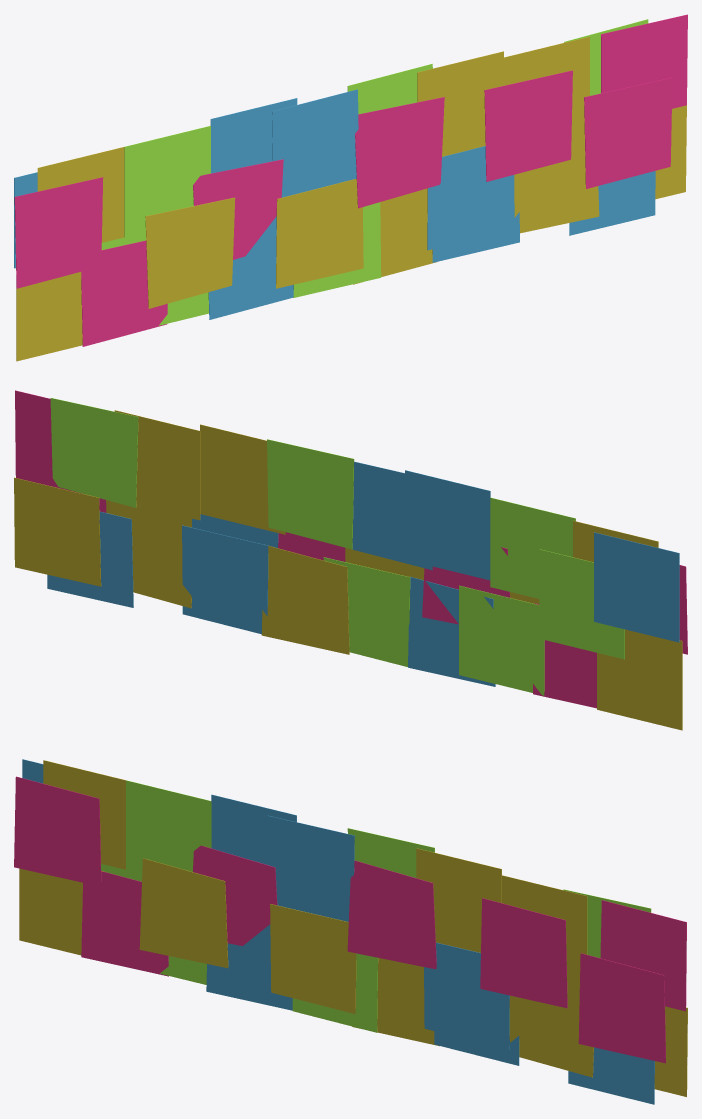
Rendered from notesCover.fbx.
The picture shows the model from 3 angles, top to bottom: view 1: azimuth 30°, elevation 25°; view 2: azimuth 150°, elevation 25°; view 3: azimuth 330°, elevation 25°; orthographic projection.
Visible parts, largest first — view 1: Notes.003, Notes.007, Notes.028, Notes.024, Notes.014, Notes.019, Notes.018, Notes.010, Notes.023, Notes.026, Notes.004, Notes.012 (+16 smaller); view 2: Notes.015, Notes.008, Notes.005, Notes.022, Notes.030, Notes.011, Notes.025, Notes.016, Notes.027, Notes.012, Notes.031, Notes.023 (+14 smaller); view 3: Notes.007, Notes.028, Notes.003, Notes.024, Notes.014, Notes.019, Notes.018, Notes.010, Notes.023, Notes.004, Notes.026, Notes.012 (+15 smaller).
Boxes of the visible parts, x1,y1,x2,y2 form: Notes.003: (584,77,672,188); Notes.007: (484,70,572,181); Notes.028: (14,177,103,288); Notes.024: (145,197,235,308); Notes.014: (355,97,444,208); Notes.019: (276,179,363,288); Notes.018: (272,89,358,197); Notes.010: (427,146,514,250); Notes.023: (124,126,210,237); Notes.026: (81,240,167,346); Notes.004: (601,14,687,108); Notes.012: (417,51,503,156); Notes.015: (267,439,354,549); Notes.008: (14,477,101,586); Notes.005: (50,398,138,507); Notes.022: (405,470,490,580); Notes.030: (594,532,679,642); Notes.011: (182,525,268,634); Notes.025: (459,585,544,695); Notes.016: (261,545,349,654); Notes.027: (597,629,682,730); Notes.012: (200,424,285,534); Notes.031: (539,549,624,659); Notes.023: (490,497,575,598); Notes.007: (480,898,567,1008); Notes.028: (14,776,101,886); Notes.003: (578,953,666,1063); Notes.024: (139,858,228,968); Notes.014: (347,860,436,969); Notes.019: (270,904,356,1013); Notes.018: (268,815,354,921); Notes.010: (424,942,509,1049); Notes.023: (126,780,211,873); Notes.004: (600,900,686,1011); Notes.026: (81,871,168,976); Notes.012: (416,848,501,952).
Bounding box in the file's own units: 4529 × 1321 × 108.
